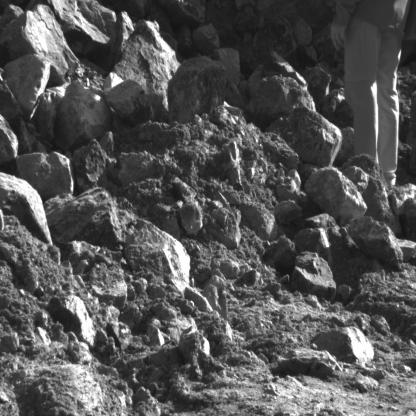stone: (102, 19, 179, 122), (0, 4, 81, 82), (43, 188, 136, 250), (125, 217, 191, 297), (244, 52, 316, 125), (264, 108, 342, 168), (47, 0, 118, 60), (55, 78, 112, 151), (166, 56, 226, 124), (24, 364, 102, 416), (0, 172, 52, 244), (342, 218, 416, 268), (294, 214, 360, 268), (1, 54, 51, 123), (305, 167, 367, 221), (238, 17, 297, 70), (16, 152, 75, 202), (47, 296, 97, 348), (311, 327, 375, 366), (70, 138, 116, 192), (291, 253, 337, 304), (33, 82, 69, 143), (207, 190, 242, 250), (278, 348, 344, 377), (90, 264, 128, 310), (241, 202, 278, 242), (119, 151, 157, 185), (111, 11, 134, 67), (212, 48, 242, 90), (263, 237, 298, 271), (202, 276, 228, 320), (302, 67, 331, 106), (217, 141, 241, 186), (18, 117, 46, 154), (178, 199, 204, 237), (0, 109, 18, 162), (192, 23, 220, 55), (390, 184, 416, 215), (343, 167, 371, 193), (185, 287, 213, 312), (175, 0, 205, 23), (273, 201, 302, 224), (401, 197, 416, 240), (172, 178, 196, 202), (294, 18, 312, 45), (99, 132, 115, 157)
